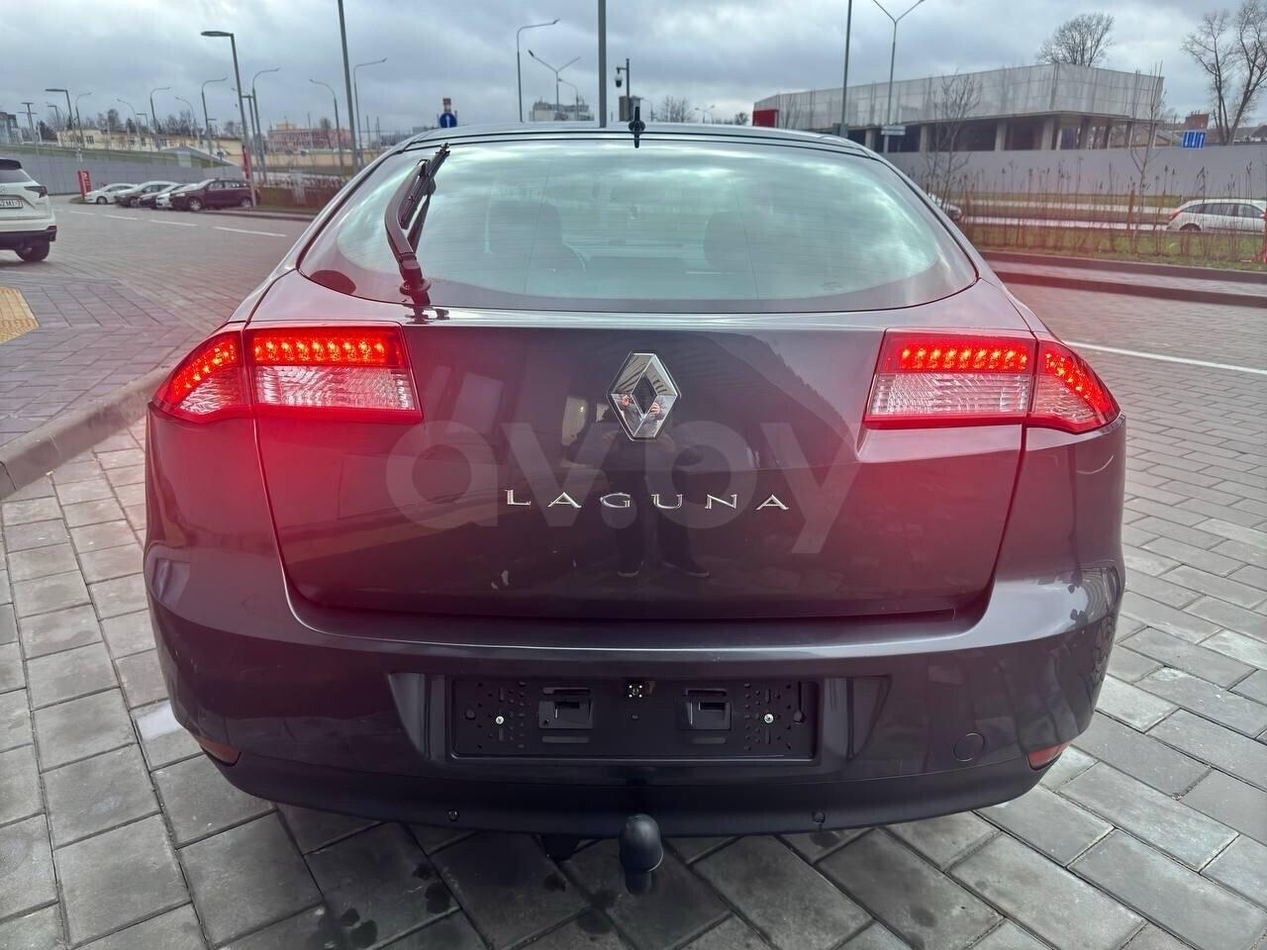Laguna_2010-2015: (135, 105, 1130, 863)
